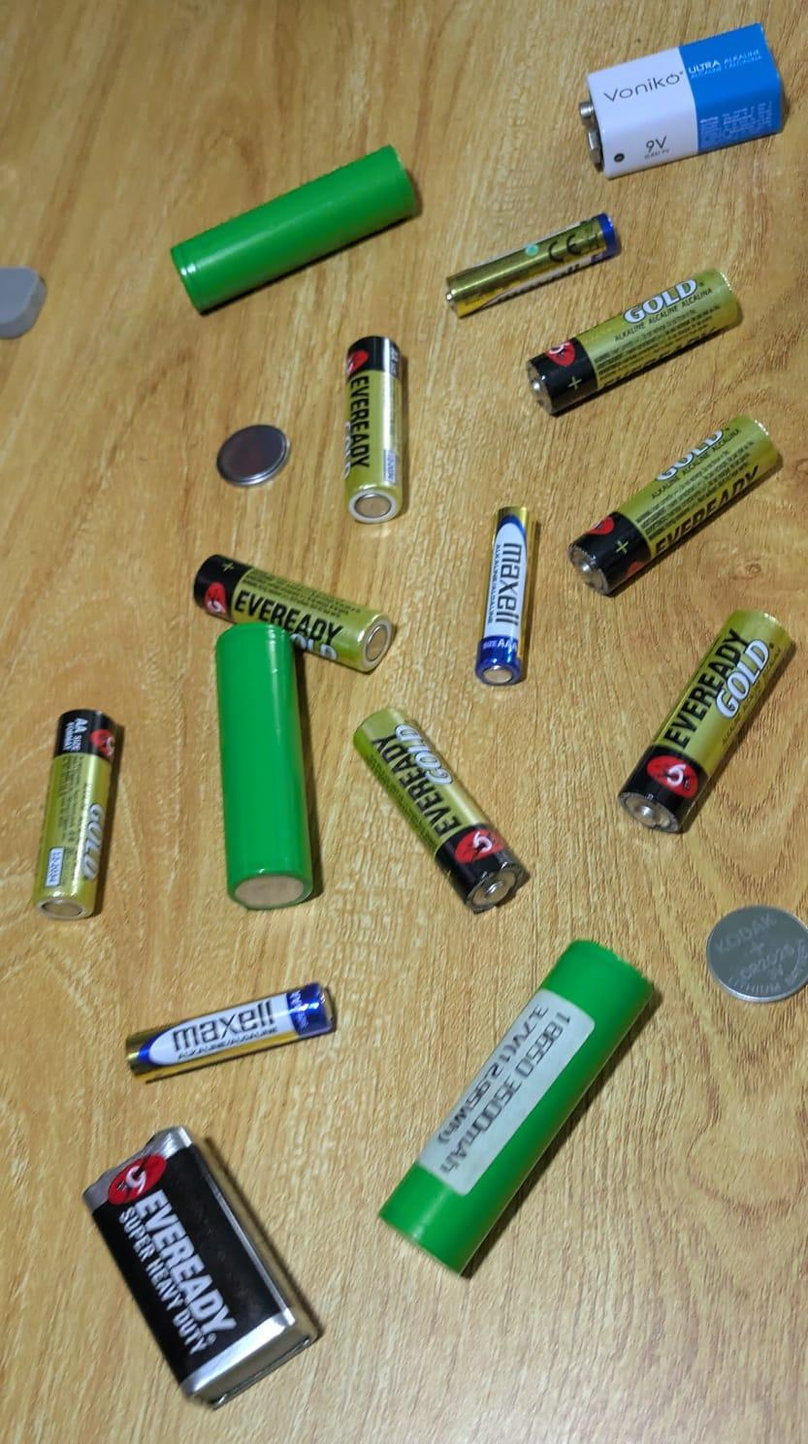9V: (83, 1123, 319, 1403), (581, 20, 790, 177)
AA: (613, 607, 793, 828), (567, 413, 782, 597), (350, 708, 526, 911), (522, 266, 744, 415), (191, 554, 393, 672), (29, 711, 118, 921), (341, 336, 407, 523)
AAA: (109, 978, 351, 1095), (424, 202, 633, 330), (466, 495, 544, 698)
COIN: (701, 905, 808, 1004), (213, 424, 291, 489)
